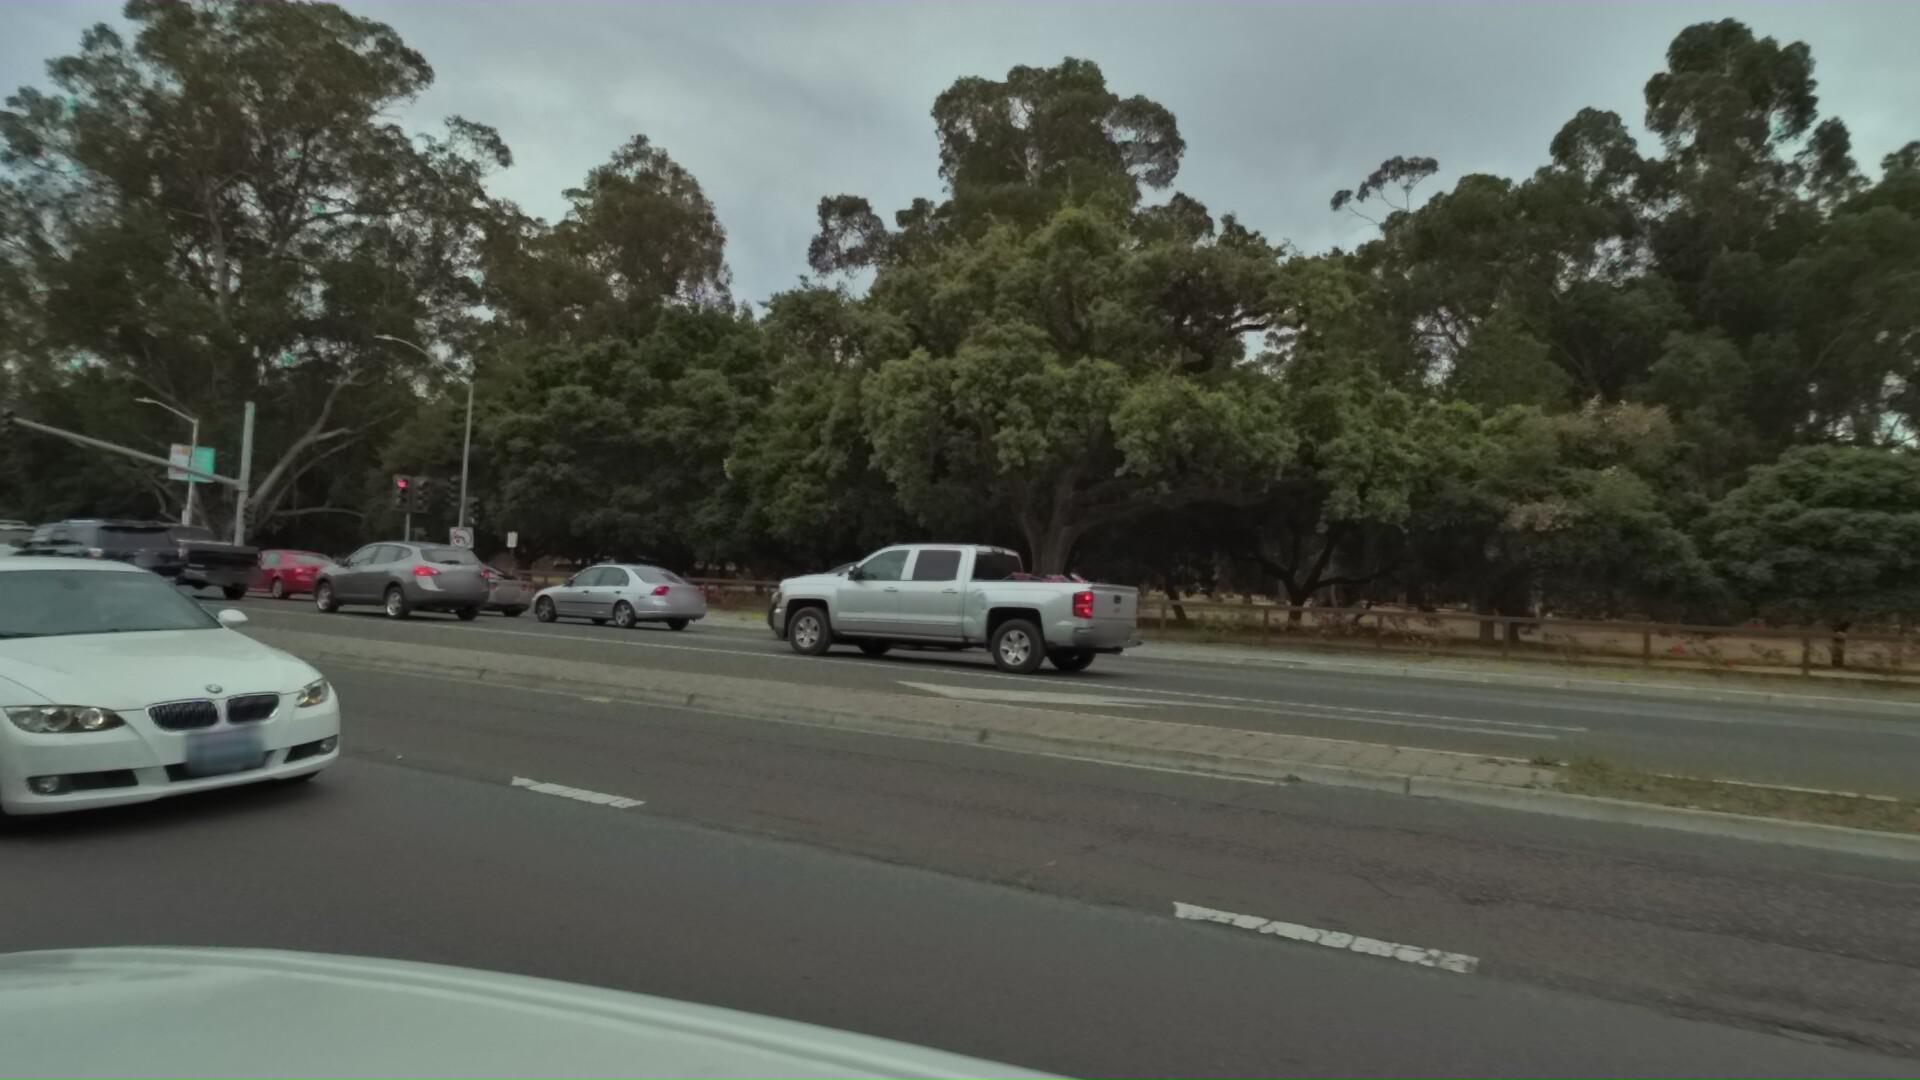car: (0, 527, 405, 866), (731, 510, 1118, 678), (725, 547, 989, 655), (0, 508, 189, 611), (287, 531, 497, 622), (65, 513, 268, 599), (508, 550, 707, 632), (357, 556, 531, 618), (199, 537, 353, 605), (384, 553, 522, 611), (0, 512, 63, 597)
